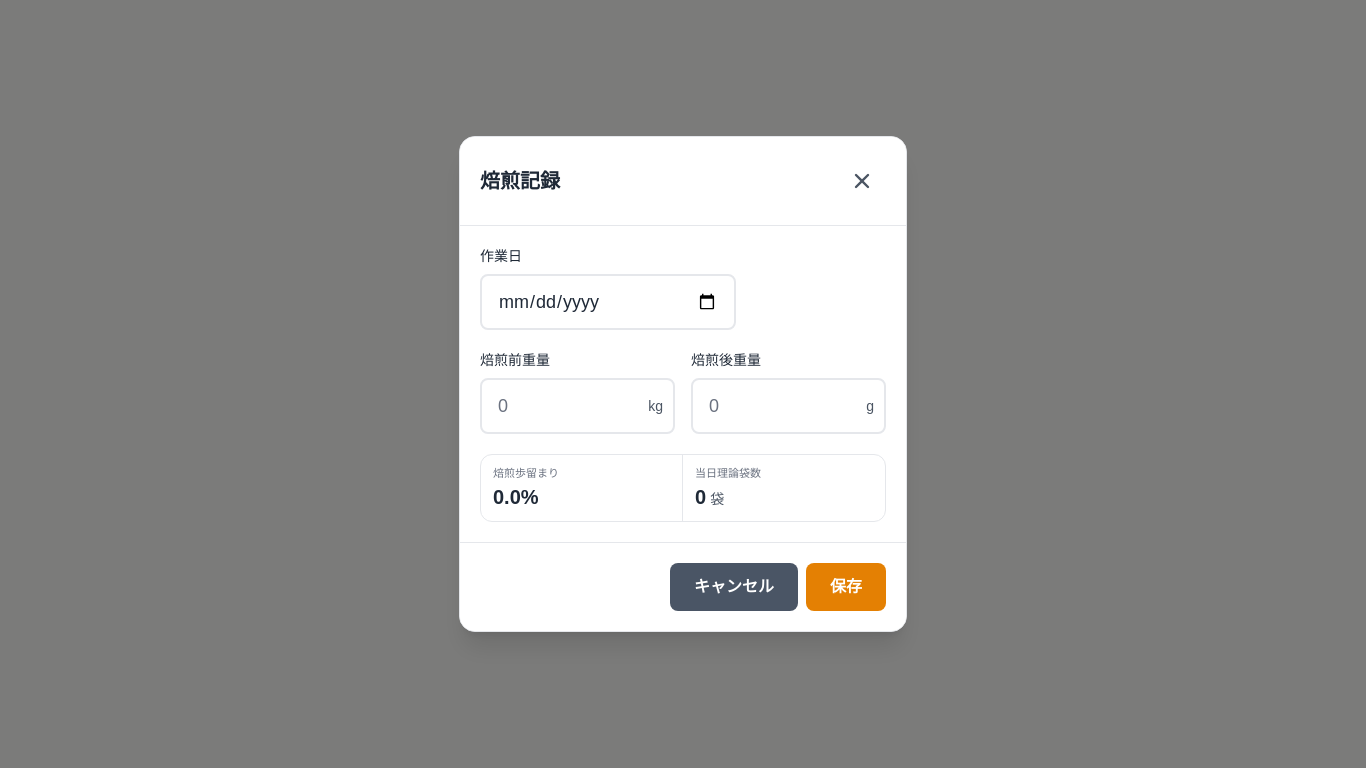
it: RoastEntryModal › 作業日が空だと保存できずエラーを表示する
Type "10" into the number field labelled "焙煎前重量" at (578, 406), box [480,378,675,434]
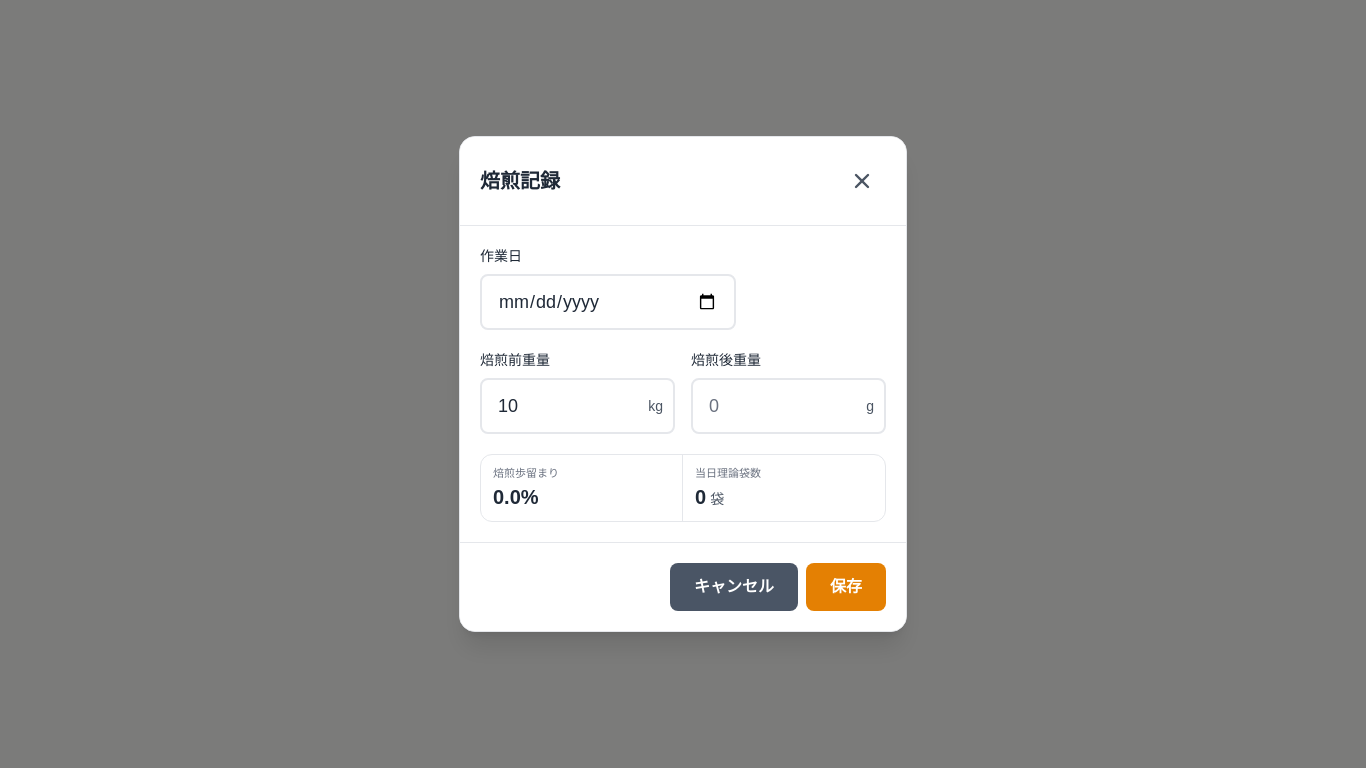
Type "8000" into the number field labelled "焙煎後重量" at (788, 406), box [691,378,886,434]
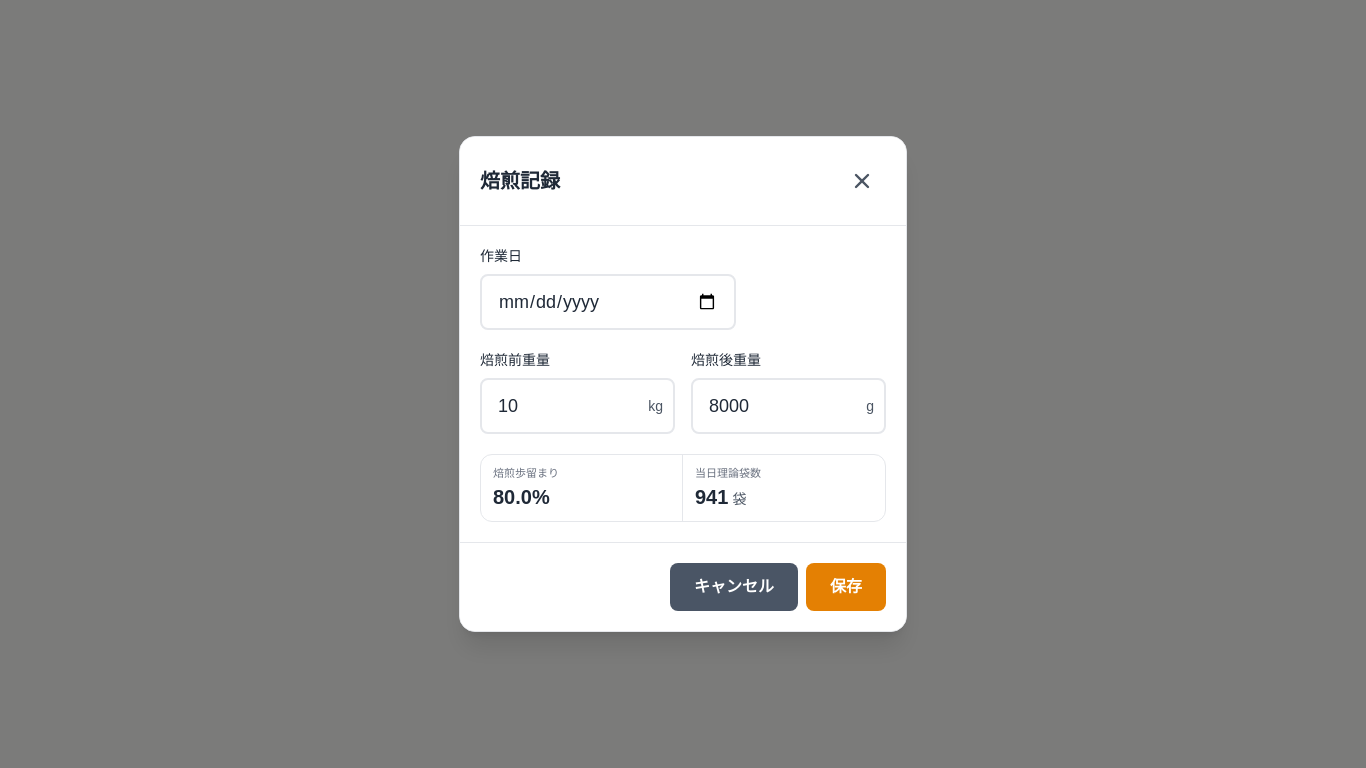
Click the button "保存" at (846, 587), box [806,563,886,611]
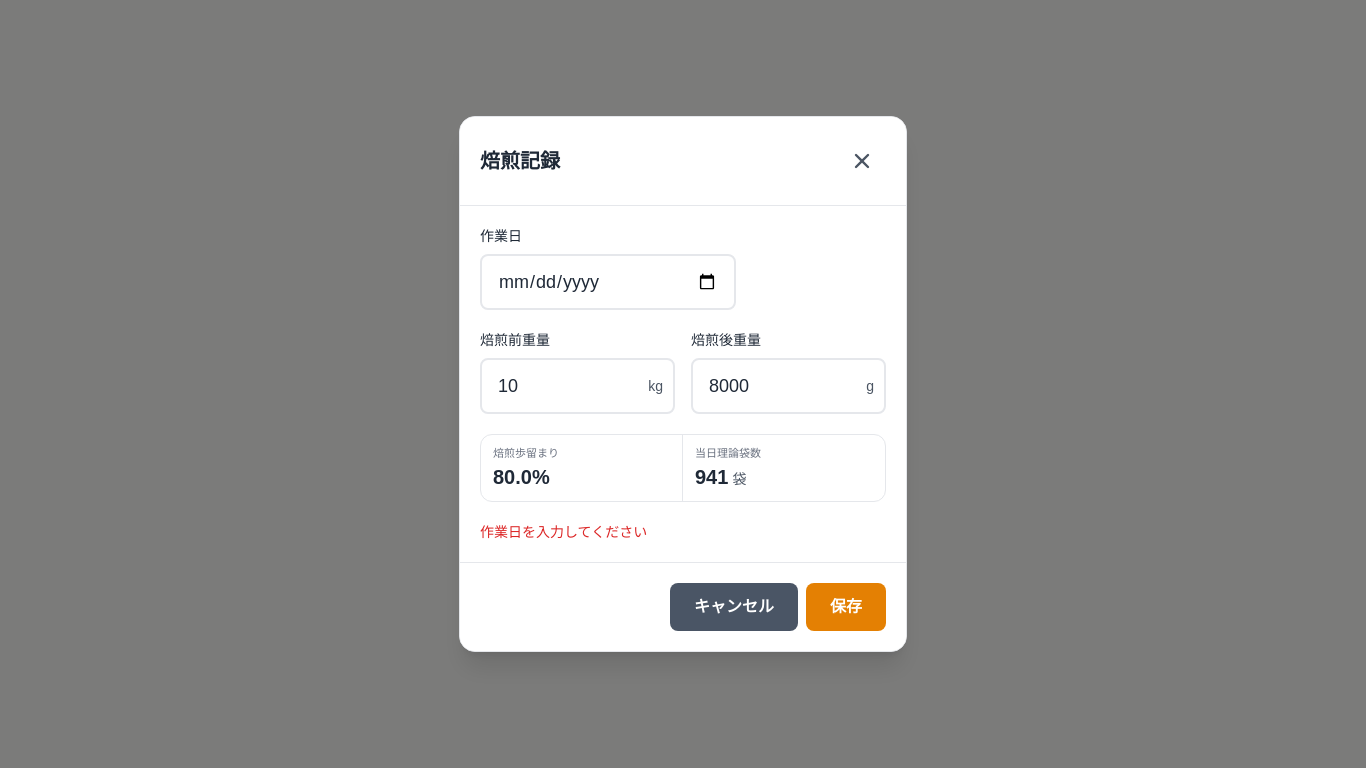
expect the message "作業日を入力してください" is shown: met, box [480,524,647,540]
